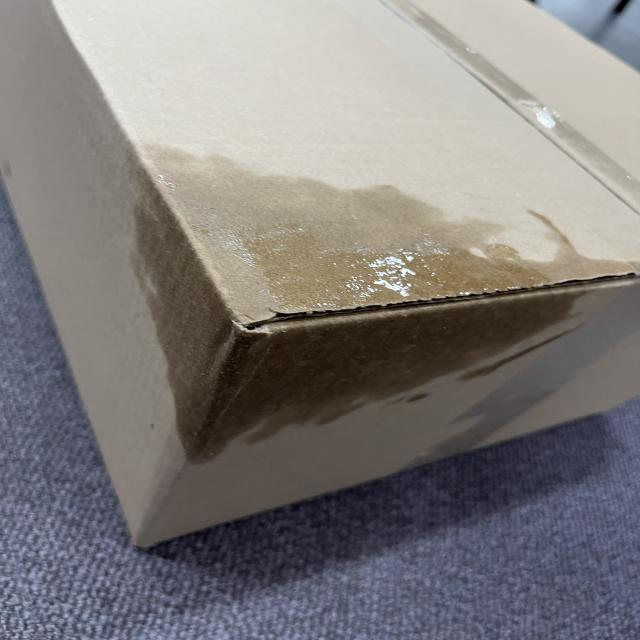wet: (116, 146, 606, 452)
